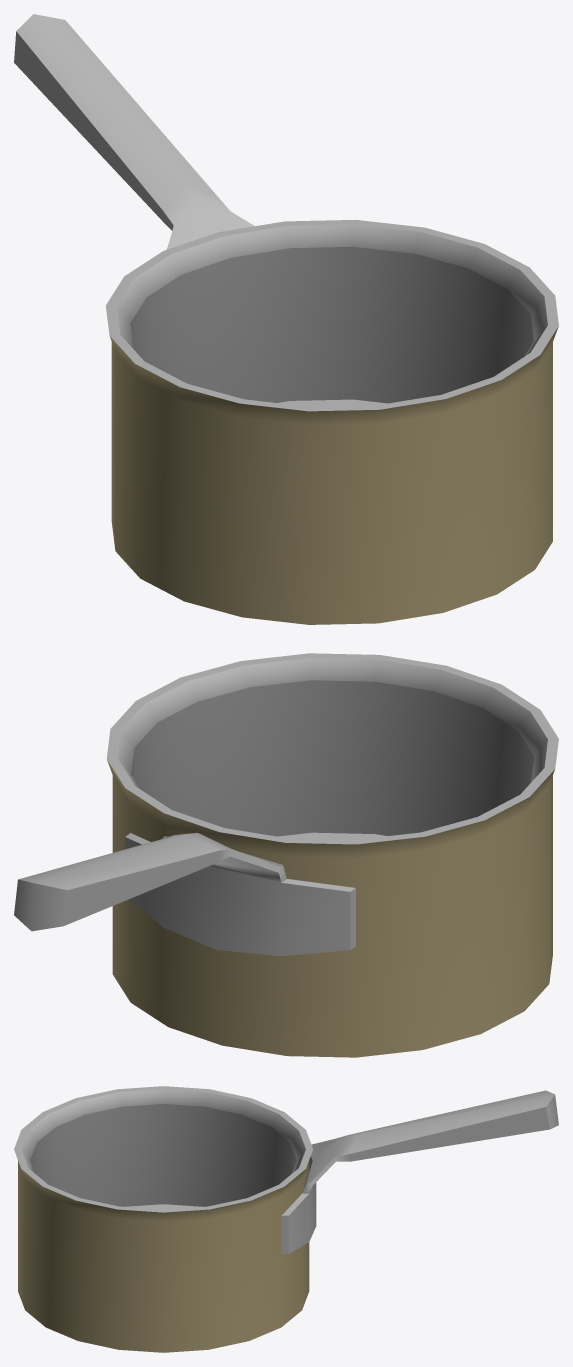
File: sauce_pan_mesh.fbx
3 views of the same model, one above another, from view 1: azimuth 30°, elevation 25°; view 2: azimuth 150°, elevation 25°; view 3: azimuth 270°, elevation 25° (orthographic). The views are drawn at different scales.
Parts seen in each view (by area): view 1: Leian_Assets:sauce_pan_low; view 2: Leian_Assets:sauce_pan_low; view 3: Leian_Assets:sauce_pan_low.
Part boxes in pixels (<box>): Leian_Assets:sauce_pan_low: <box>14,14,558,624</box>; Leian_Assets:sauce_pan_low: <box>14,653,558,1057</box>; Leian_Assets:sauce_pan_low: <box>14,1086,558,1352</box>.
Bounding box in the file's own units: 35.34 × 25.63 × 64.36.
